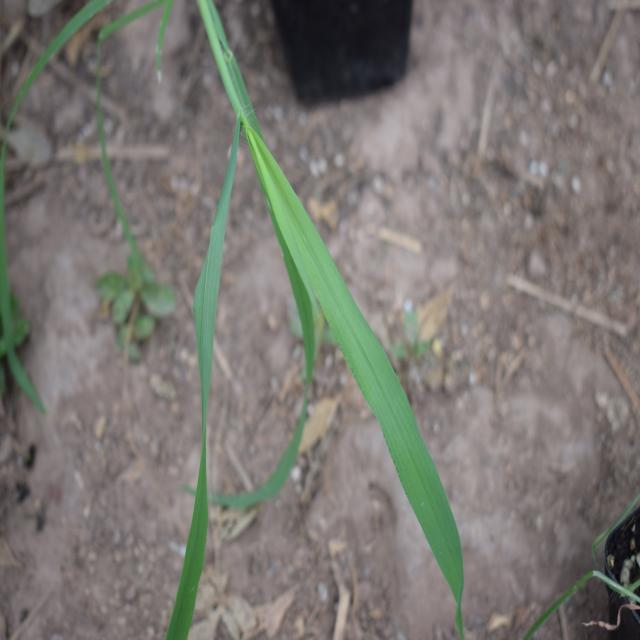crabgrass: (163, 131, 454, 624)
